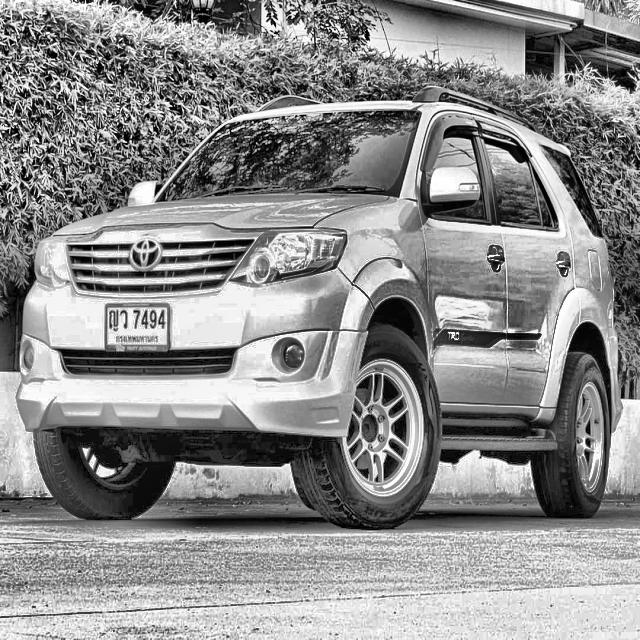license-plate: (104, 299, 172, 356)
